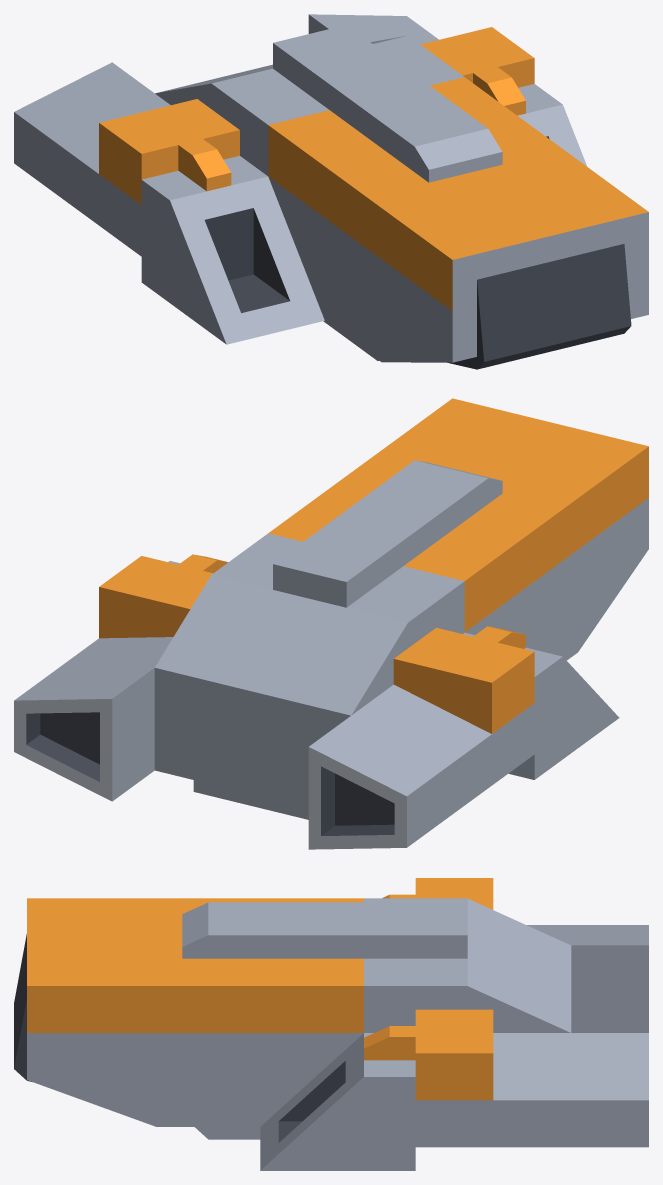
Rendered from craft_cargoA.obj.
3 views of the same model, one above another, from view 1: azimuth 30°, elevation 25°; view 2: azimuth 150°, elevation 25°; view 3: azimuth 270°, elevation 25° (orthographic). The views are drawn at different scales.
Parts seen in each view (by area): view 1: craft_cargoA; view 2: craft_cargoA; view 3: craft_cargoA.
Part boxes in pixels (box(x1,y1,x2,y2)): craft_cargoA: box(14, 14, 648, 369); craft_cargoA: box(14, 398, 648, 849); craft_cargoA: box(14, 878, 648, 1170).
Bounding box in the file's own units: 1.6 × 0.8 × 2.45.
